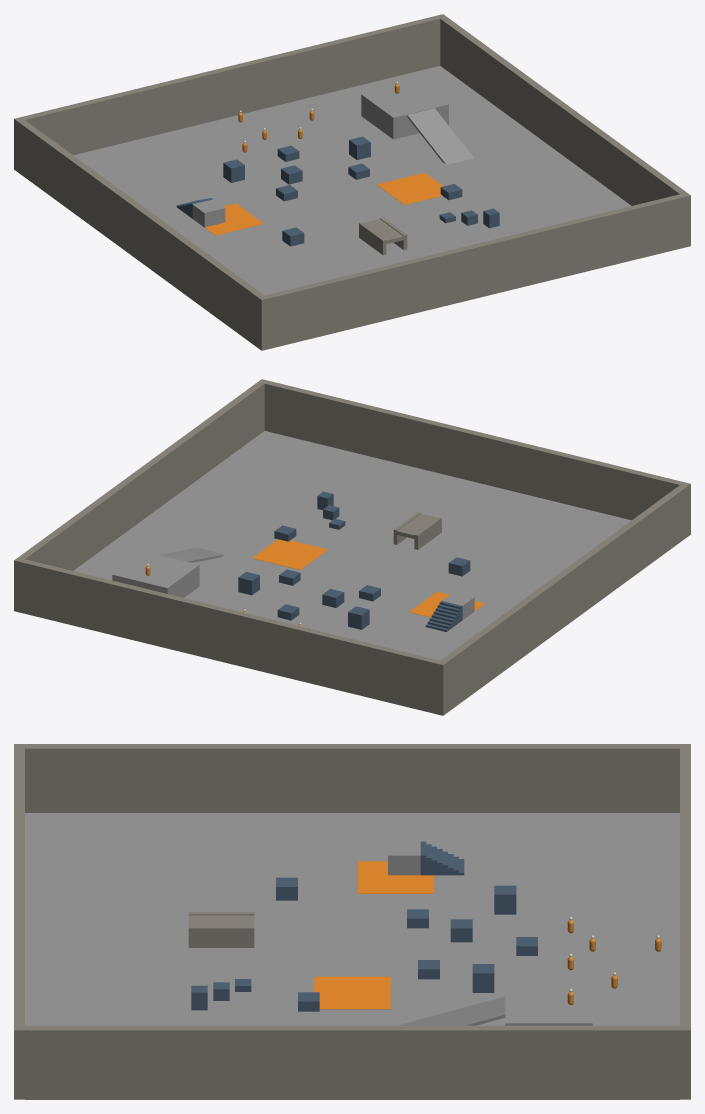
The model's file is test_map.glb.
The picture shows the model from 3 angles, top to bottom: view 1: azimuth 30°, elevation 25°; view 2: azimuth 150°, elevation 25°; view 3: azimuth 270°, elevation 25°; orthographic projection. The views are drawn at different scales.
Visible parts, largest first — view 1: Floor, WallSouth, WallNorth, WallWest, WallEast, Platform, Ramp, Plate_2, Plate, StairTop, TunnelRoof; view 2: Floor, WallNorth, WallSouth, WallWest, WallEast, Platform, Plate_2, TunnelRoof, Ramp, Plate; view 3: Floor, WallEast, WallWest, WallNorth, WallSouth, Platform, Plate_2, Plate, Ramp, TunnelRight, StairTop, TunnelRoof (+3 smaller).
Boxes of the visible parts, x1,y1,x2,y2 form: Floor: (73,66,631,295); WallSouth: (257,192,690,350); WallNorth: (14,14,446,171); WallWest: (18,120,264,347); WallEast: (440,17,686,205); Platform: (361,81,448,139); Ramp: (407,108,473,164); Plate_2: (376,173,443,204); Plate: (204,203,263,235); StairTop: (192,199,225,227); TunnelRoof: (360,219,406,244); Floor: (73,431,631,660); WallNorth: (14,557,447,715); WallSouth: (258,379,690,536); WallWest: (440,485,686,712); WallEast: (18,382,264,570); Platform: (112,551,199,597); Plate_2: (252,539,328,569); TunnelRoof: (393,513,441,539); Ramp: (159,547,224,562); Plate: (409,591,485,618); Floor: (25,813,679,1099); WallEast: (25,1025,679,1099); WallWest: (25,744,679,812); WallNorth: (680,744,690,1099); WallSouth: (14,744,24,1099); Platform: (505,986,592,1025); Plate_2: (314,976,390,1009); Plate: (358,861,434,893); Ramp: (398,996,505,1025); TunnelRight: (188,926,254,947); StairTop: (388,841,420,875); TunnelRoof: (188,915,254,932).
Size of the model in its own units: 62 by 7.5 by 62.
